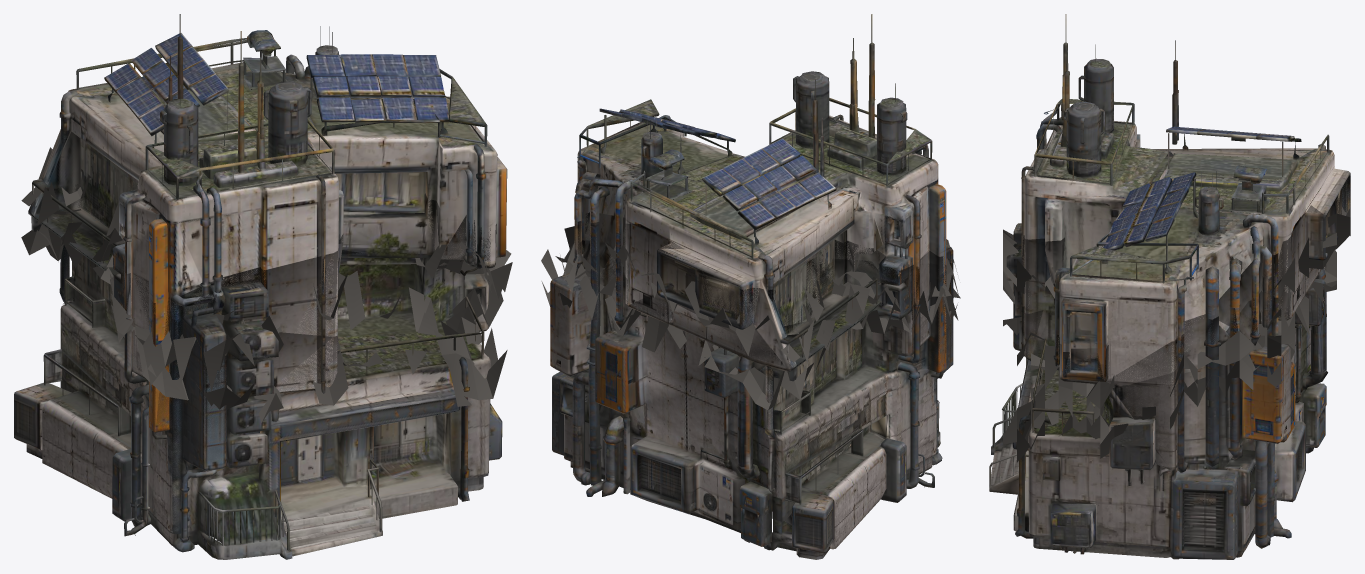
Rendered from toa_khoi.glb.
The picture shows the model from 3 angles, left to right: view 1: azimuth 30°, elevation 25°; view 2: azimuth 150°, elevation 25°; view 3: azimuth 270°, elevation 25°; orthographic projection. The views are drawn at different scales.
Visible parts, largest first — view 1: do_1, nguyen, do_2; view 2: do_1, nguyen, do_2; view 3: do_1, nguyen, do_2.
Boxes of the visible parts, bbox=[...] form: do_1: bbox=[14, 184, 507, 559]; nguyen: bbox=[29, 14, 507, 533]; do_2: bbox=[21, 130, 512, 533]; do_1: bbox=[541, 240, 960, 559]; nguyen: bbox=[574, 14, 946, 428]; do_2: bbox=[541, 212, 958, 438]; do_1: bbox=[989, 250, 1336, 559]; nguyen: bbox=[1021, 14, 1350, 385]; do_2: bbox=[1003, 176, 1350, 468].
Bounding box in the file's own units: 31.36 × 40 × 29.72.
Materials: 2 (1 with a texture image).
